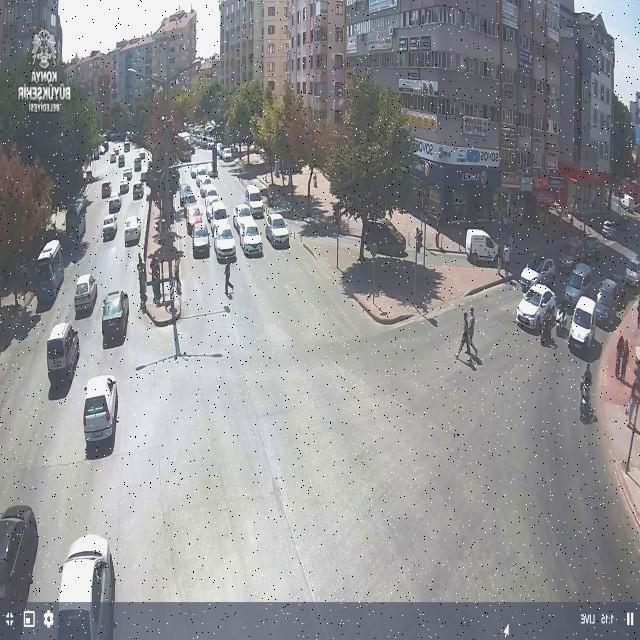Bus: (36, 238, 64, 294)
Car: (56, 535, 117, 637), (1, 505, 38, 609), (82, 375, 119, 445), (516, 282, 555, 330), (361, 219, 407, 258), (47, 321, 79, 377), (569, 298, 598, 350), (564, 263, 594, 307), (101, 290, 129, 336), (593, 280, 623, 322), (519, 259, 555, 293), (466, 229, 498, 264), (74, 274, 97, 313), (213, 224, 237, 260), (265, 213, 289, 247), (239, 224, 263, 256), (244, 184, 265, 216), (191, 224, 210, 258), (576, 236, 604, 259), (185, 204, 204, 232), (233, 203, 253, 229), (557, 250, 580, 272), (124, 215, 142, 243), (208, 198, 228, 222), (624, 257, 639, 287), (102, 215, 118, 239), (180, 183, 196, 205), (602, 220, 617, 238), (108, 196, 122, 213), (132, 181, 144, 199), (219, 147, 233, 162), (102, 182, 112, 198)
